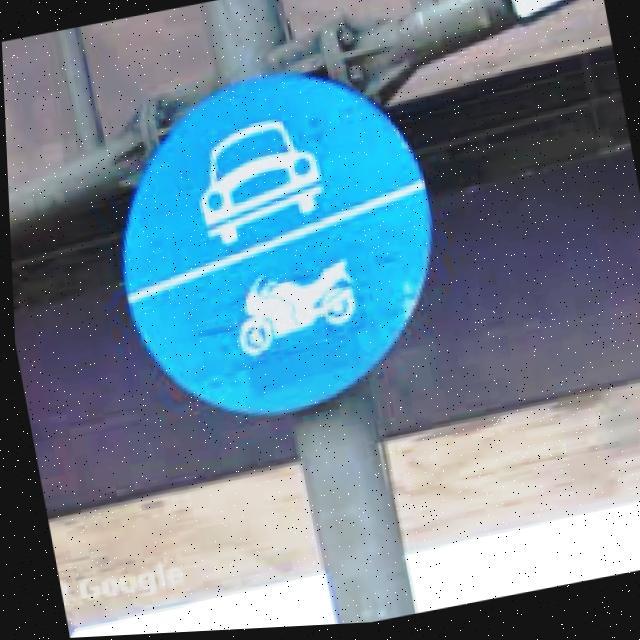carmotorcycle: (117, 78, 433, 423)
